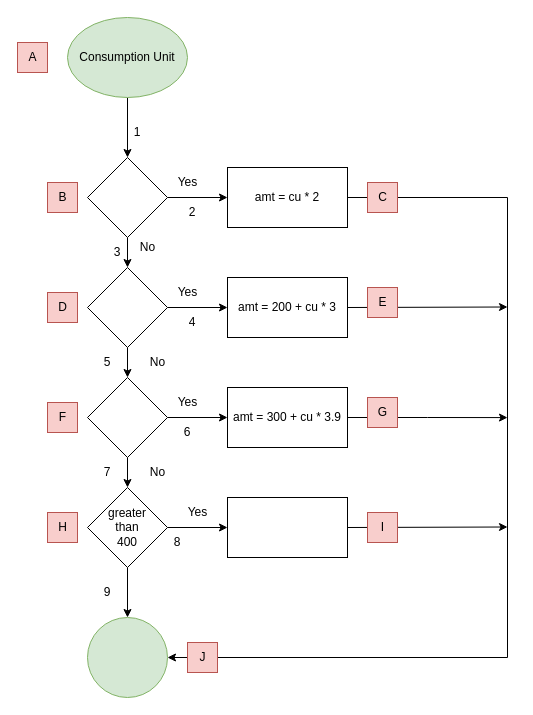
This 533x715 diagram has some shape labels left out. The shapes that lost their labels are listed below. From the top down, each one's centre as x and y in pixels, then its label:
At point (127, 197): "Lies btw 0 & 150".
At point (127, 307): "Lies btw 151 & 300".
At point (127, 417): "Lies btw 301 & 400".
At point (287, 527): "amt = 350 + cu * 4.4".
At point (127, 657): "amt".
